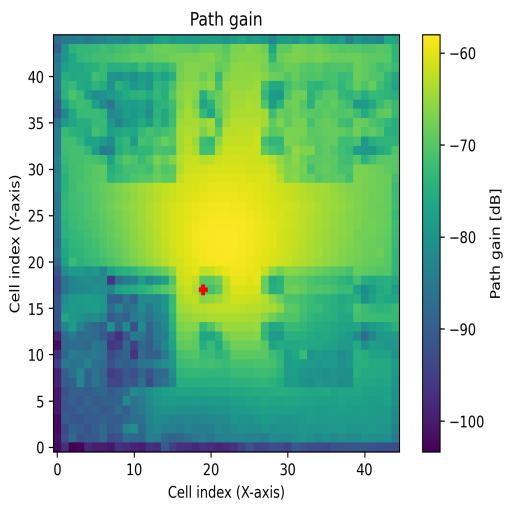Concrete: (285, 63, 353, 183)
Glass: (107, 62, 176, 182)
Metal: (283, 265, 354, 387)
Wood: (108, 266, 176, 389)
